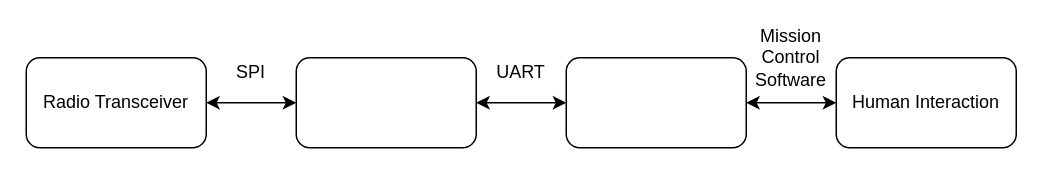
Some shapes in this 1043 by 174 pixel diagram are drawn without their labels. The shapes that lost their labels are listed below. From the top down, each one's box as (x1, y1, x2, y2) in pixels, then its label:
(295, 56, 476, 148): Microcontroller
(565, 56, 746, 148): Computer Interface
